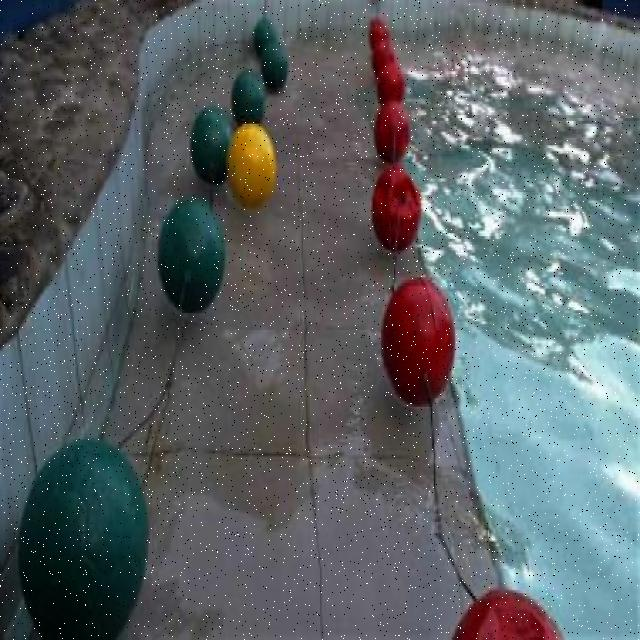buoy: (17, 434, 151, 634), (379, 274, 454, 404), (156, 198, 225, 316), (448, 584, 570, 636), (369, 163, 419, 252), (226, 121, 276, 206), (188, 110, 233, 187), (372, 100, 410, 164), (229, 70, 263, 128), (258, 41, 287, 91), (375, 58, 403, 102), (369, 40, 395, 75), (250, 18, 276, 53), (364, 15, 387, 50)
